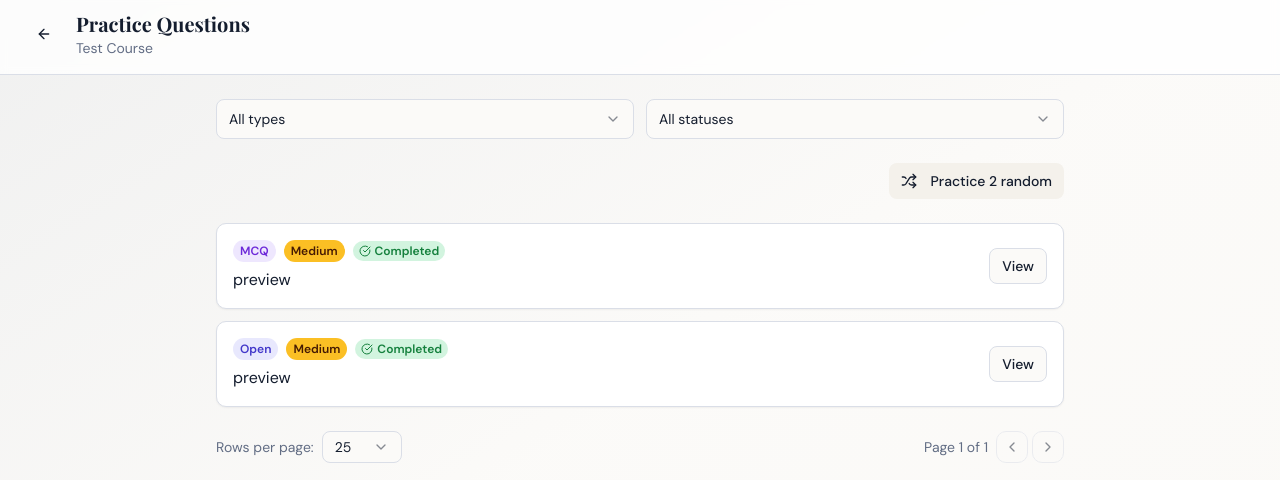
it: UnifiedPracticeQuestionsList › filters by status and shows the filtered empty state with a Clear filters CTA
Click the dropdown named "Filter by status".
click(696, 119)  # box [646,99,1064,139]
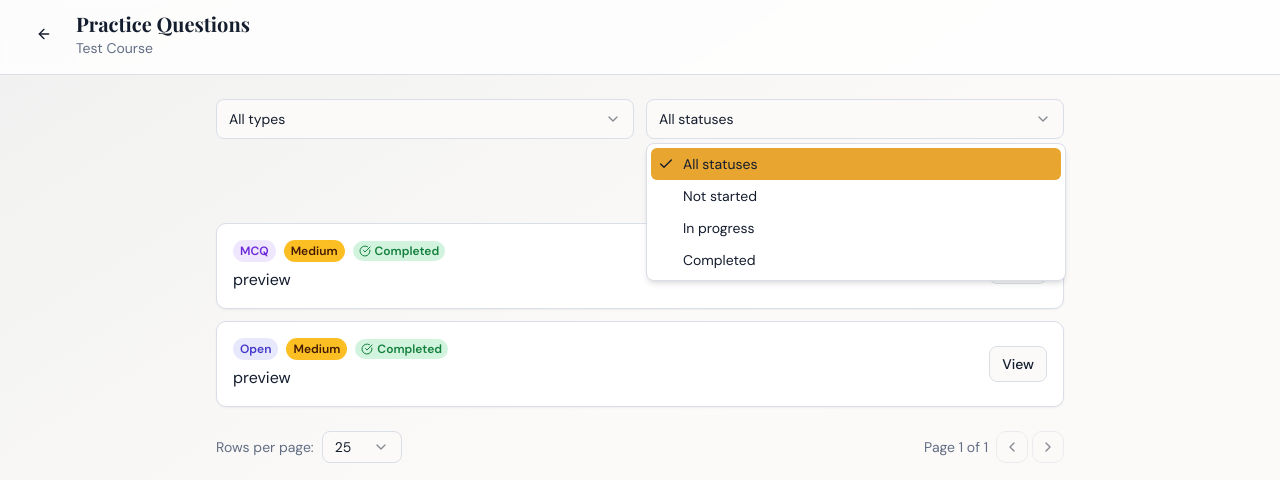
Click the option "In progress".
click(719, 228)  # box [683,219,754,237]
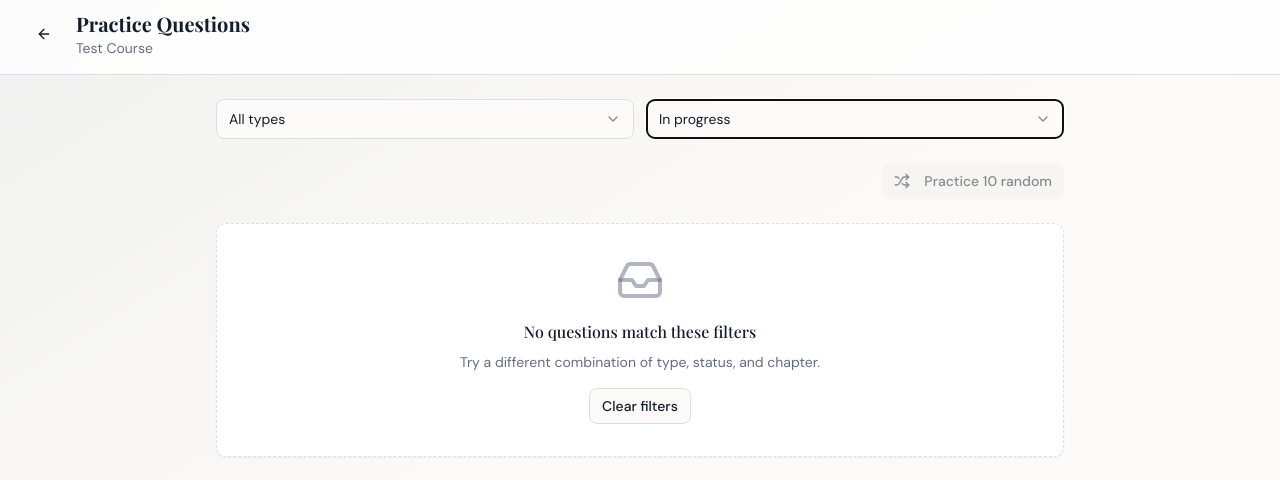
Now the heading "No questions match these filters" is shown, box [524,321,756,342]
Note: Clearing filters should bring the rows back.
Click the button "Clear filters".
click(640, 406)  # box [589,388,691,424]
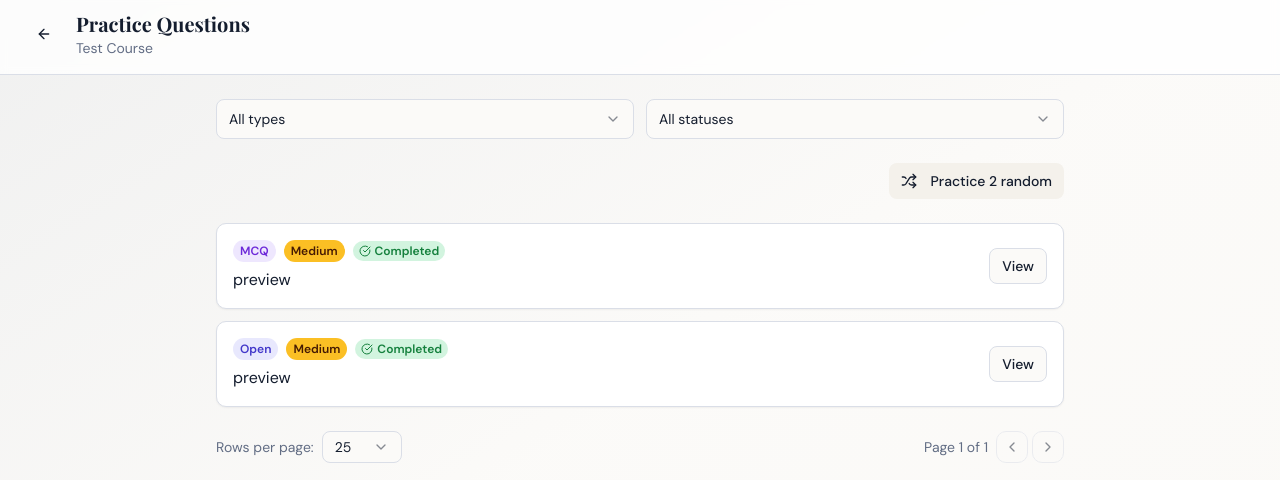
Now the number of list items is 2, box [216,223,1064,309]; [216,321,1064,407]
